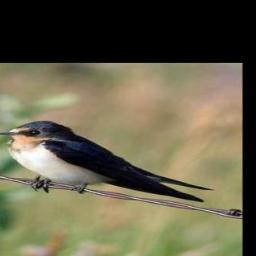Swallow: (0, 118, 213, 206)
